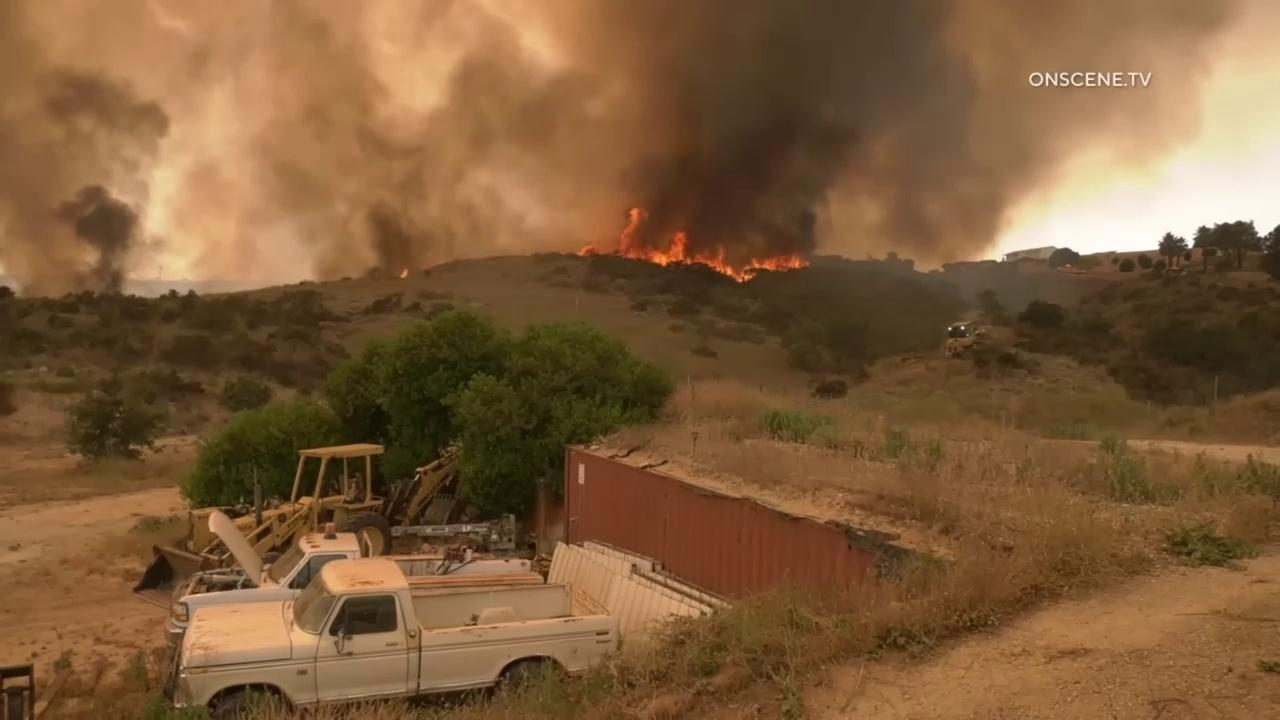fire: (575, 206, 813, 284), (399, 268, 409, 280)
smoke: (0, 0, 1257, 297)
